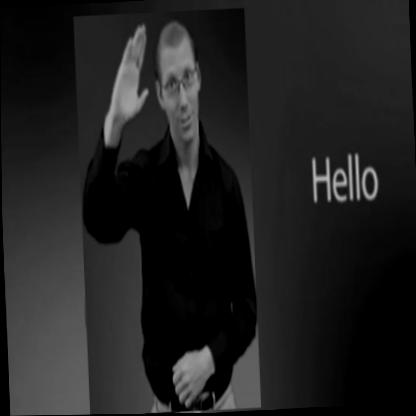Hello: (73, 9, 260, 415)
